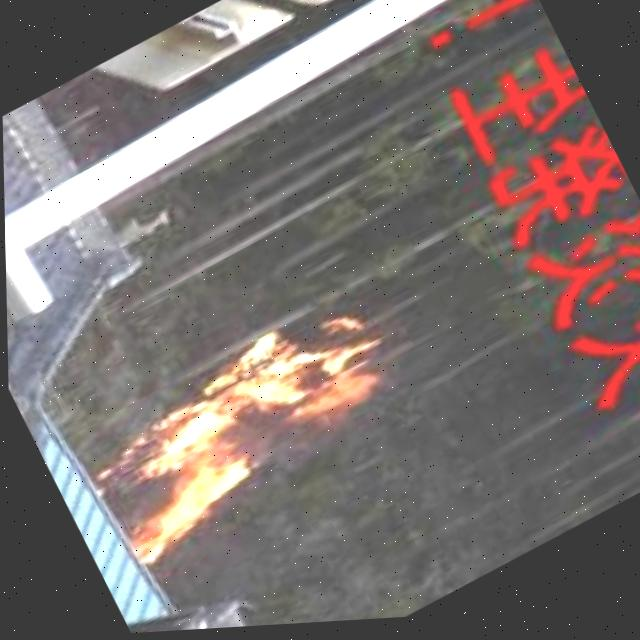Fire: (60, 288, 408, 579)
